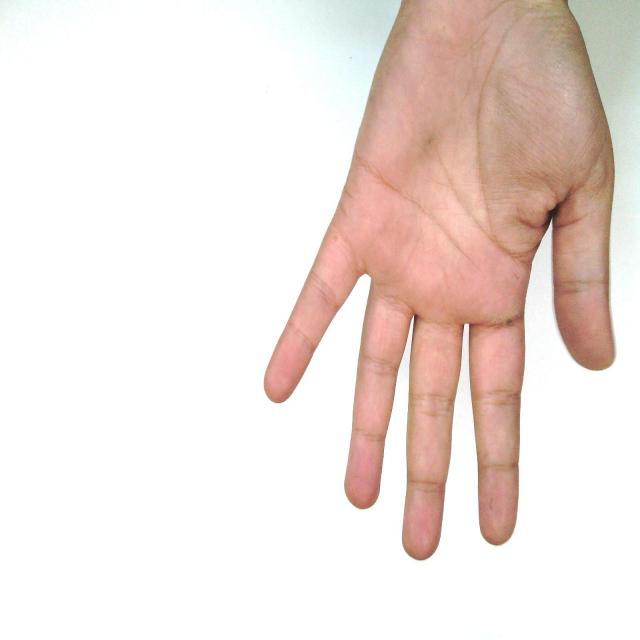others: (251, 1, 639, 577)
